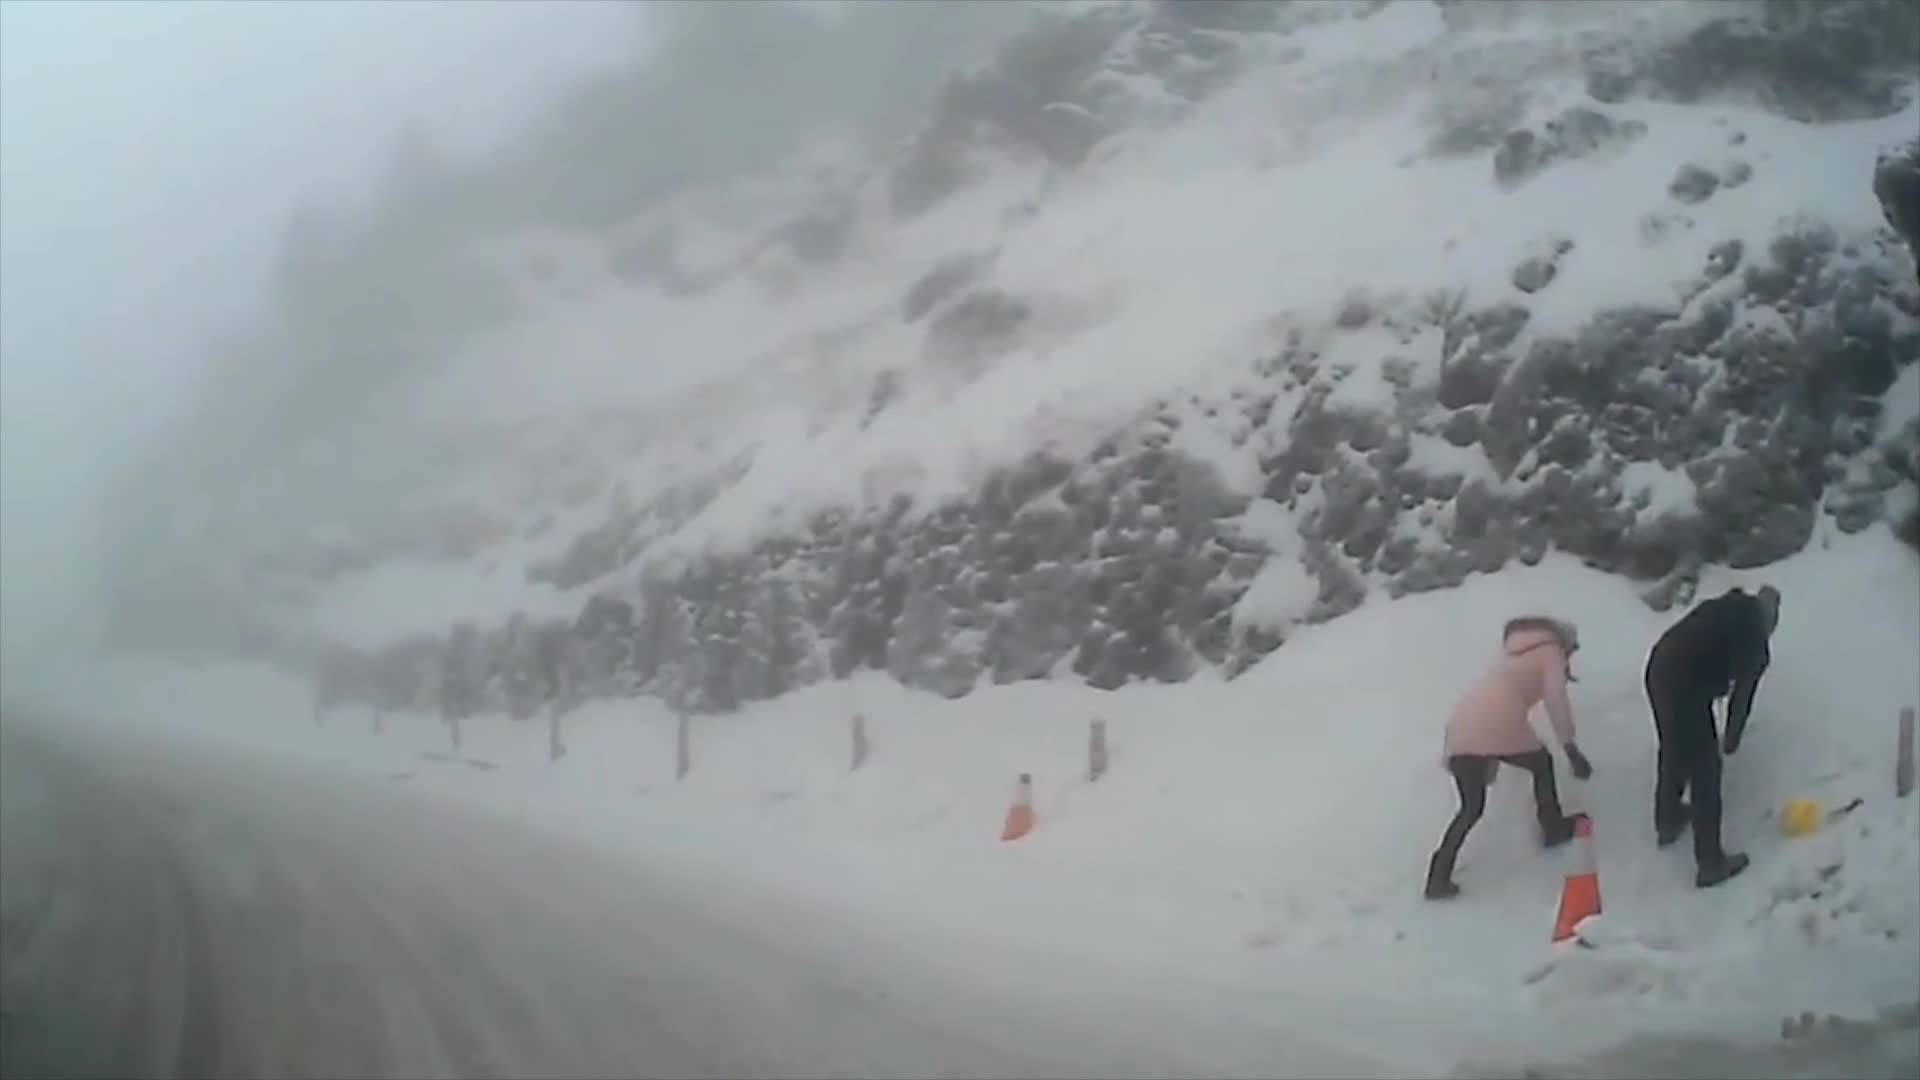pedestrian: (1426, 617, 1595, 897), (1646, 586, 1783, 893)
